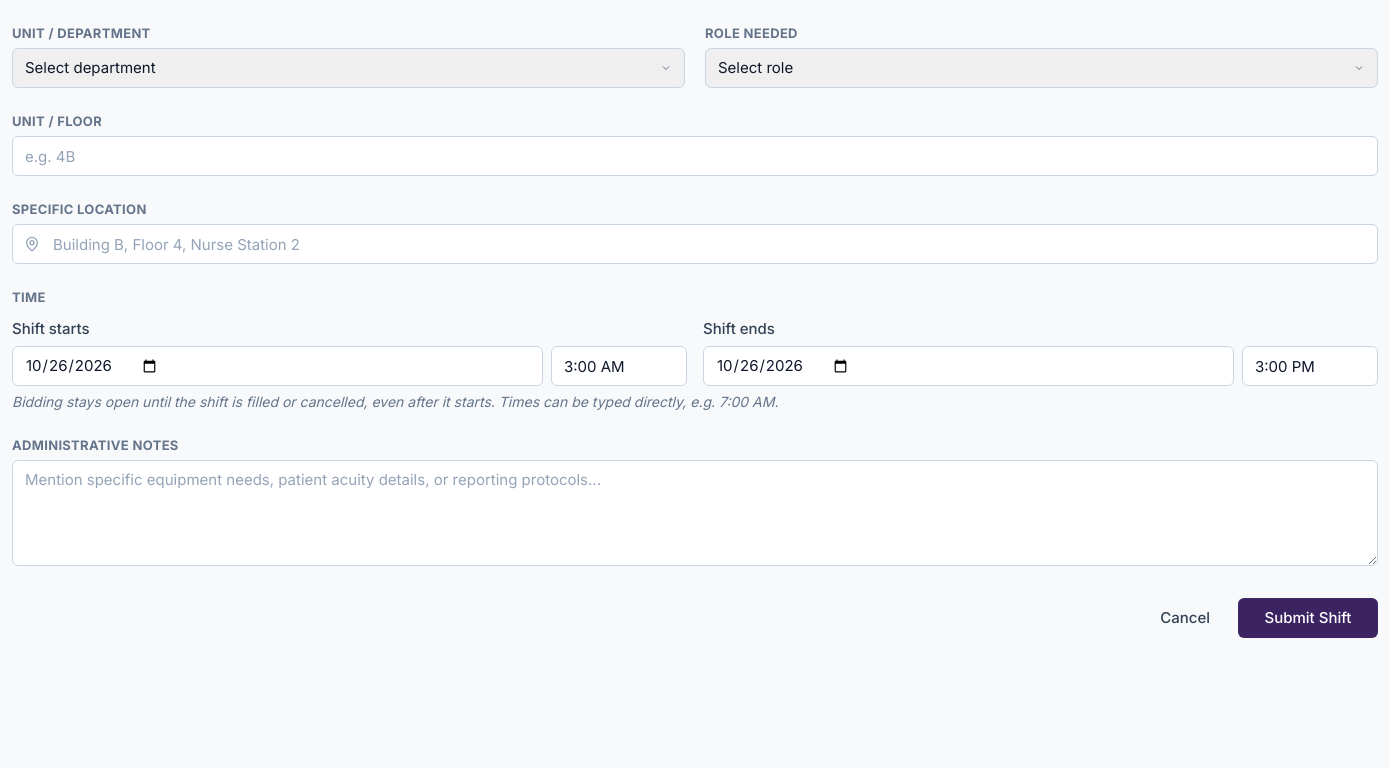
Scenario: ShiftForm › flags unreadable time text
Select "Emergency (ED)" in the dropdown labelled "Unit / Department": coordinates (348, 68) 12,48 -> 685,88
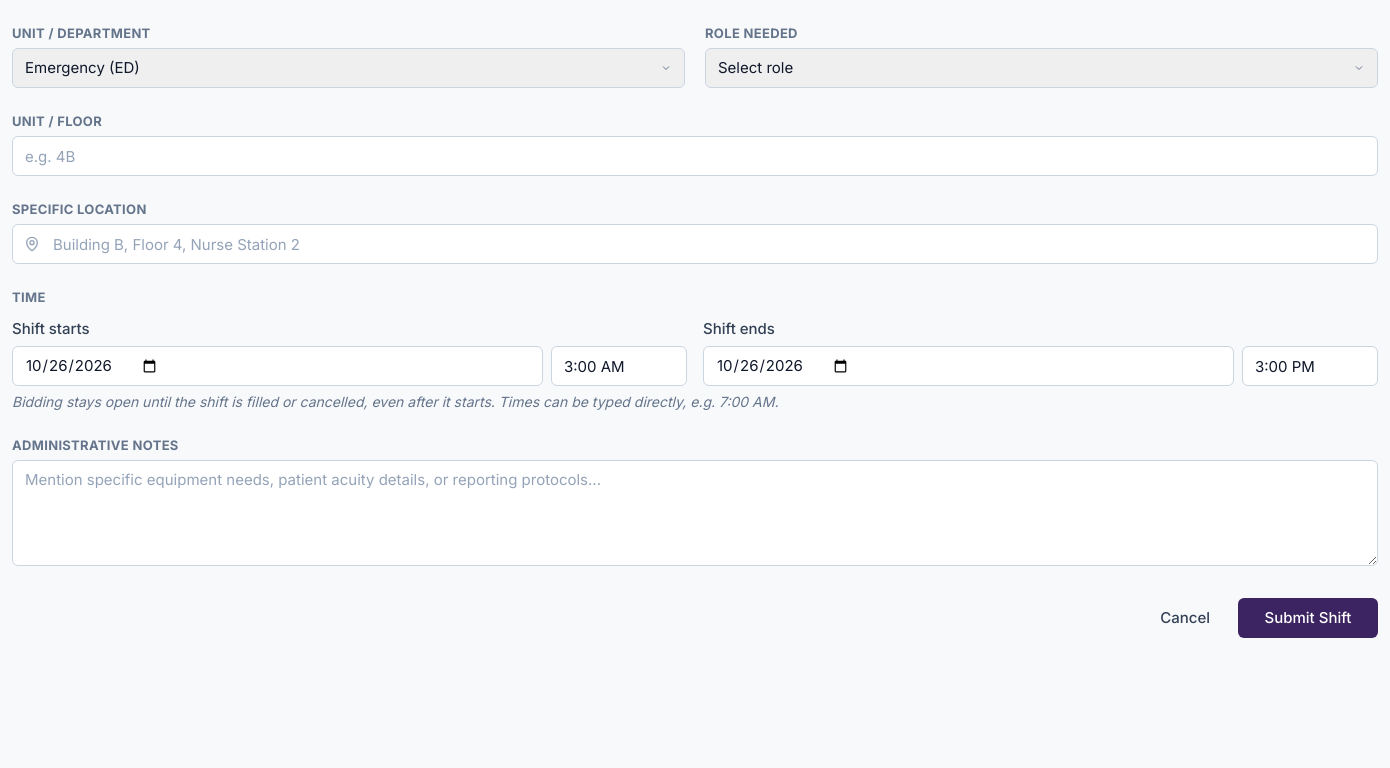
Select "Emergency MD" in the dropdown labelled "Role needed": coordinates (1042, 68) 705,48 -> 1378,88
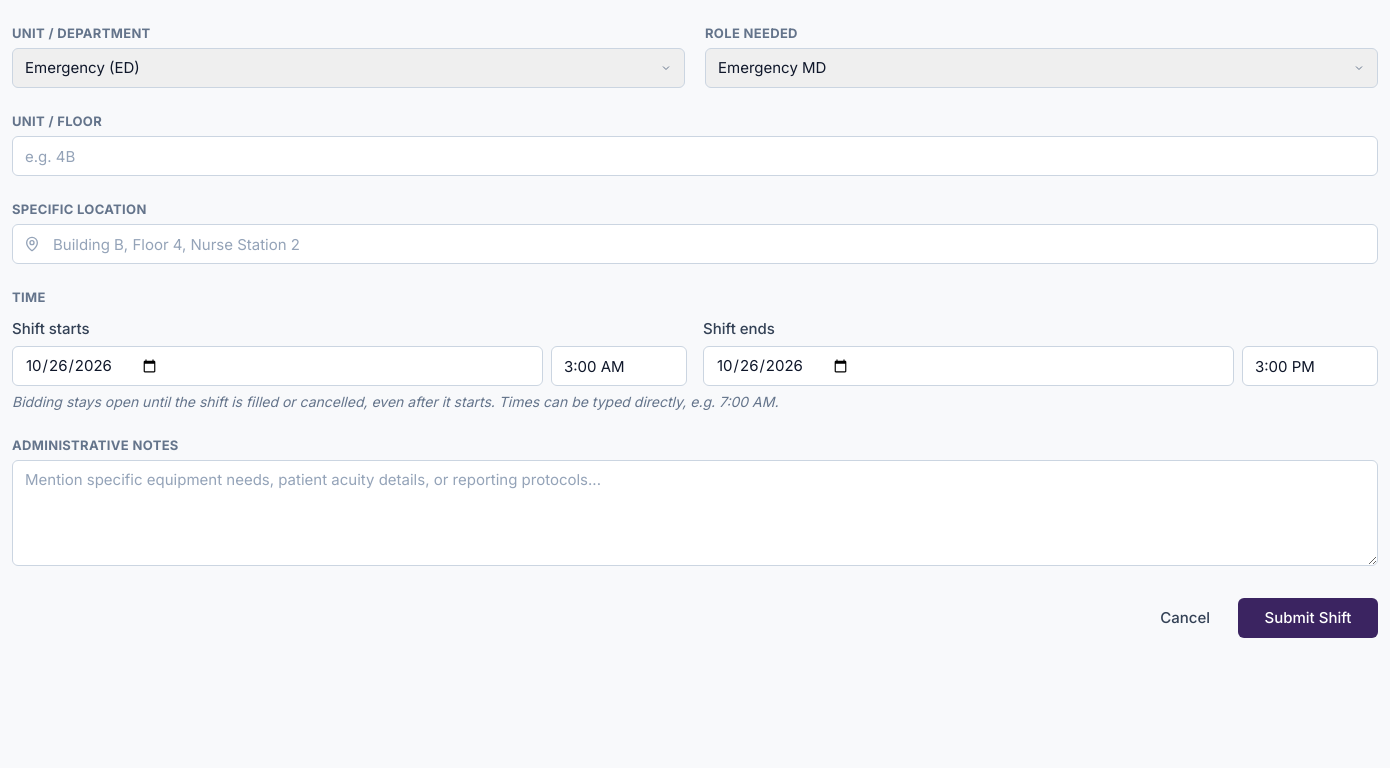
In the field labelled "Unit / floor": coordinates (695, 156) 12,136 -> 1378,176, type "4B"
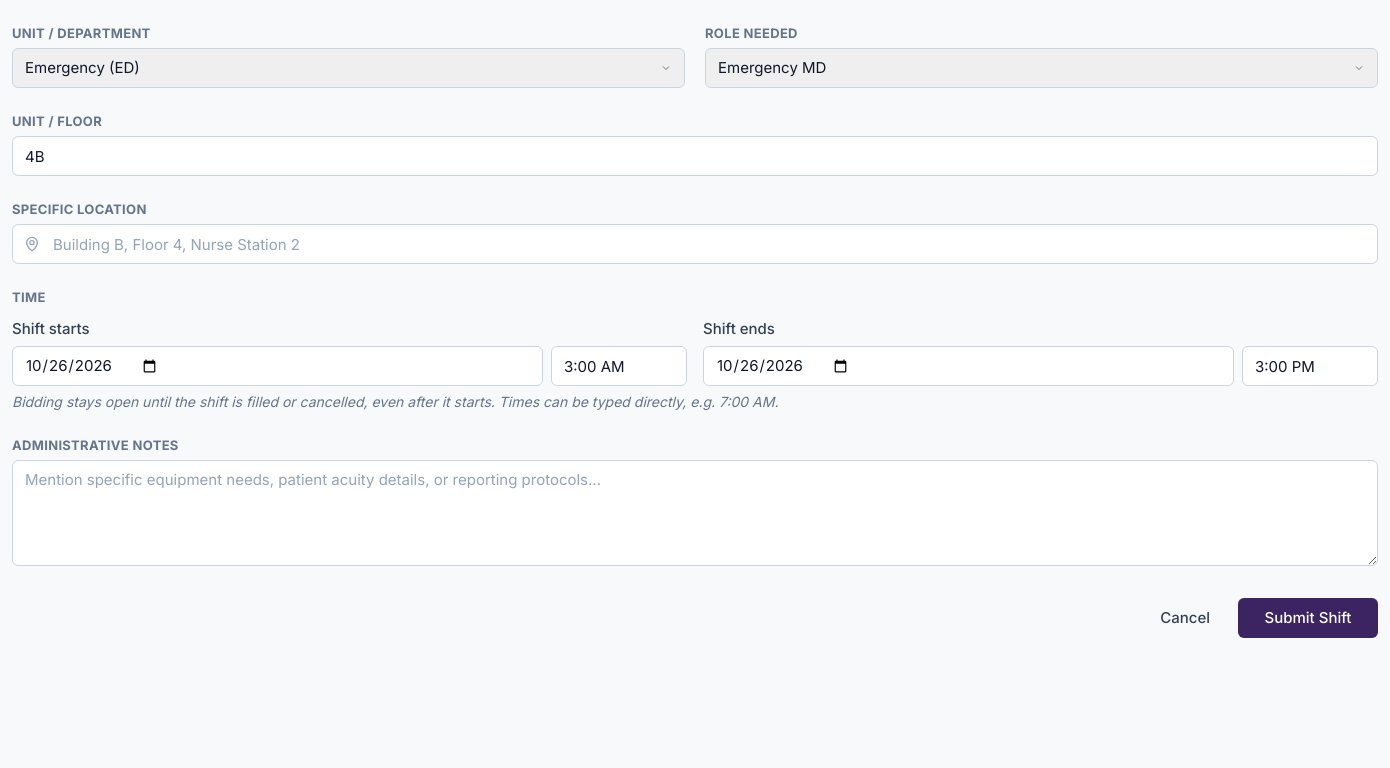
In the field labelled "Specific location": coordinates (695, 244) 12,224 -> 1378,264, type "Building B"
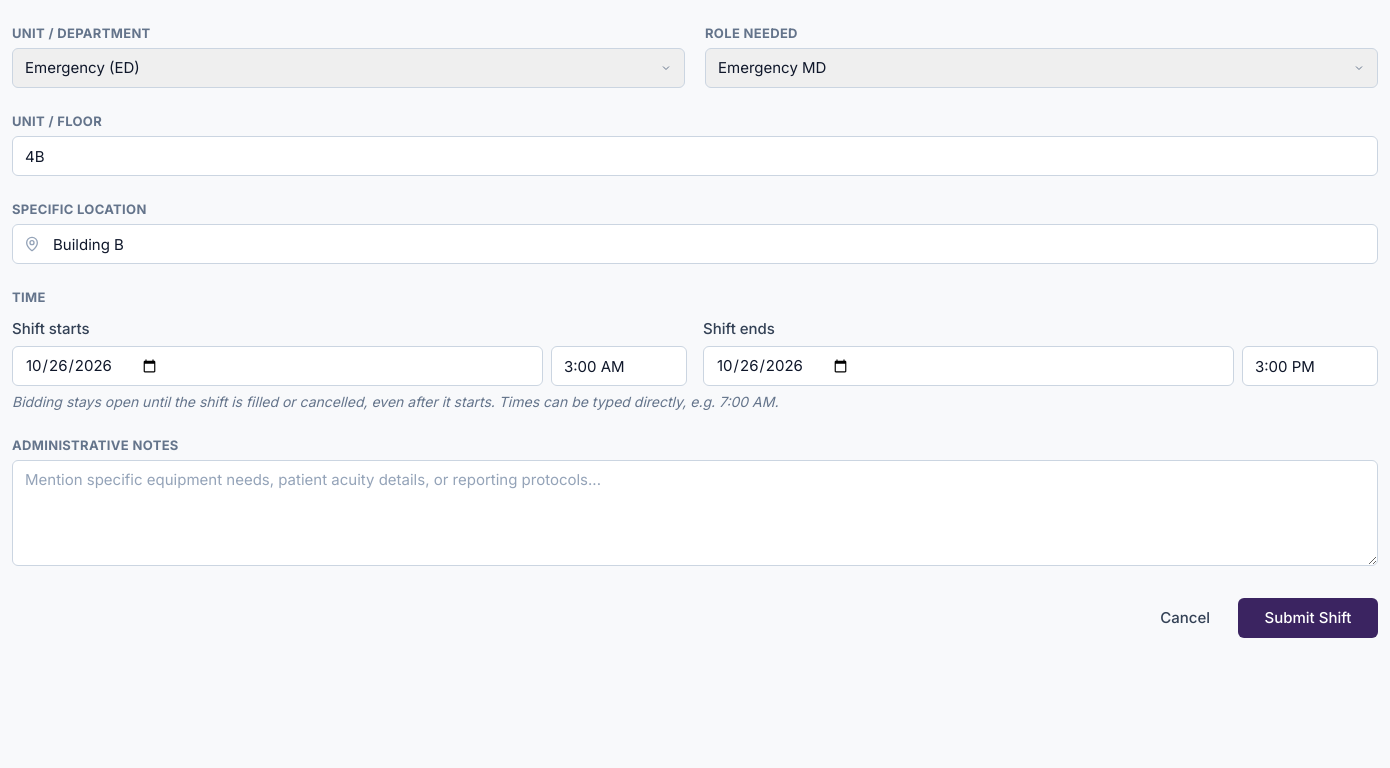
Replace the text in the field named "Shift starts time" with "sevenish": coordinates (619, 366) 551,346 -> 687,386
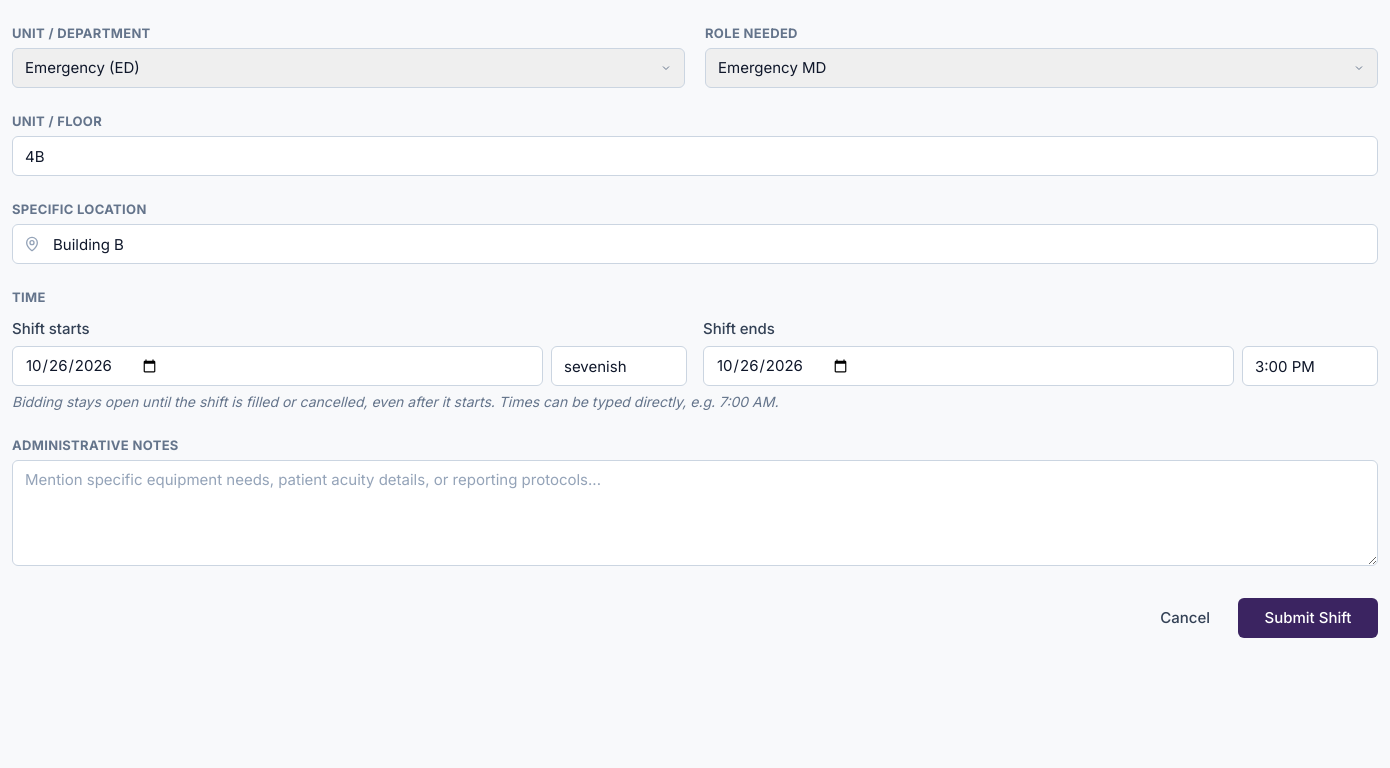
Click the button "Submit Shift": coordinates (1308, 618) 1238,598 -> 1378,638
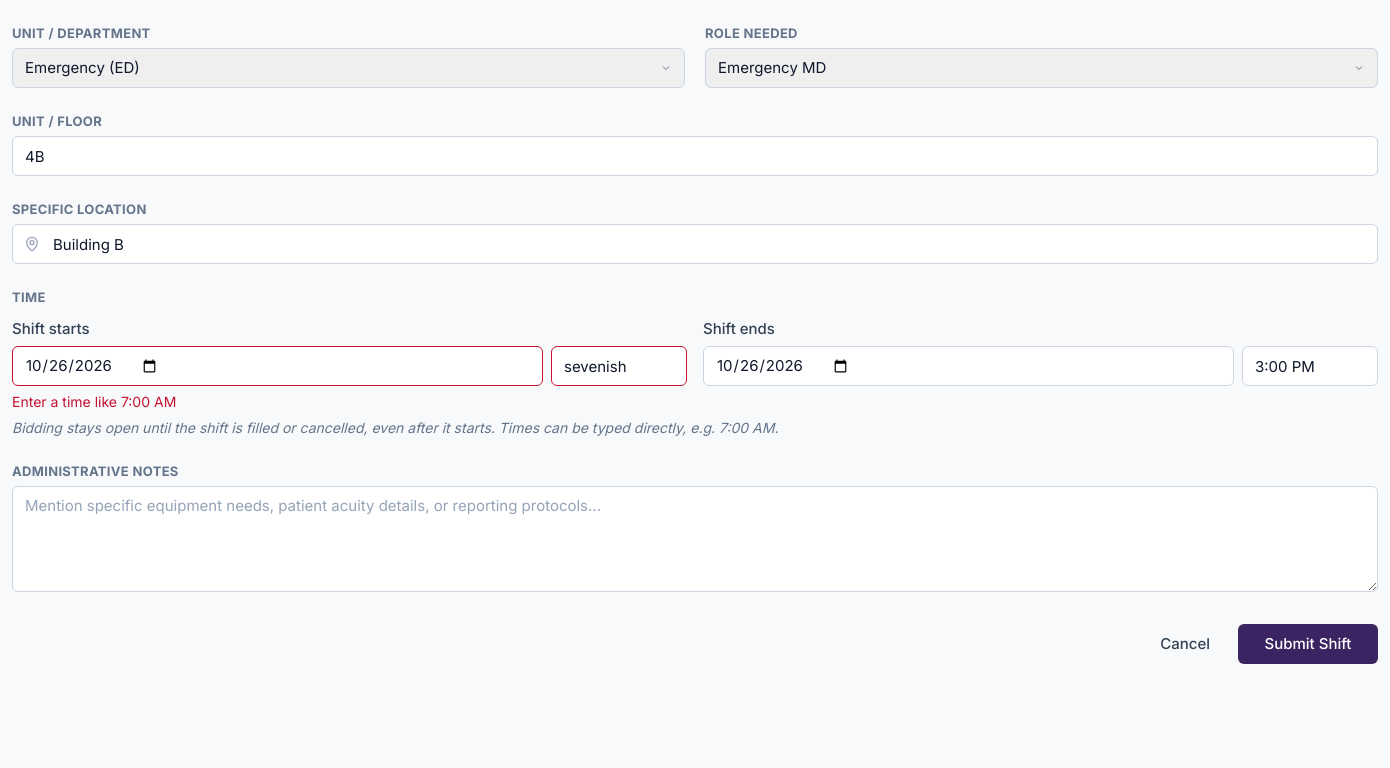
Check: the text "Enter a time like 7:00 AM" is shown, box 12,393 -> 176,410
